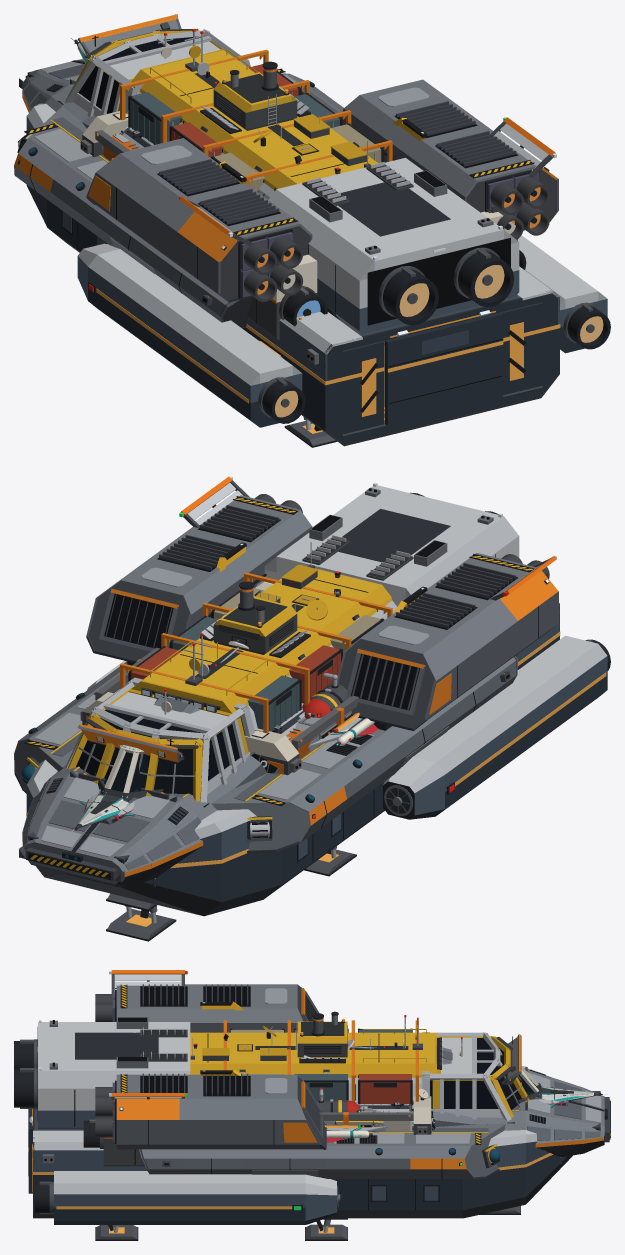
The model's file is Ships.gltf.
3 renders of one model, top to bottom at view 1: azimuth 30°, elevation 25°; view 2: azimuth 150°, elevation 25°; view 3: azimuth 270°, elevation 25°, orthographic. The views are drawn at different scales.
Parts seen in each view (by area): view 1: Nacelle (×5), EngineBlock (×4), RearFace (×7), RampPlate, HouseRoof (×3), BlockTop (×6), BlockOuterChamfer (×3), BlockOuterWall (×3), HeatGrille, ContainerBody (×4), ExhaustPlate, BlockTopChamfer (×3) (+32 smaller); view 2: Nacelle (×4), EngineBlock (×2), HouseRoof (×3), HullLower (×4), BlockTop (×6), IntakeWell (×2), BlockOuterChamfer (×3), BlockFront (×5), BlockOuterWall (×3), HeatGrille, ContainerBody (×3), BlockTopChamfer (×3) (+20 smaller); view 3: Nacelle (×5), EngineBlock (×4), HullLower (×4), HouseRoof (×3), BlockOuterWall (×3), BlockTop (×6), BlockOuterChamfer (×3), SponsonOuterWall (×5), SponsonTopChamfer (×5), FinBase (×4), BlockTopChamfer (×3), HouseEdge (×3) (+29 smaller).
Boxes of the visible parts, box(x1,y1,x2,y2) form: Nacelle (×5): box(88, 235, 598, 419); EngineBlock (×4): box(268, 157, 519, 330); RearFace (×7): box(324, 290, 552, 445); RampPlate: box(385, 312, 503, 425); HouseRoof (×3): box(142, 49, 377, 183); BlockTop (×6): box(120, 79, 535, 241); BlockOuterChamfer (×3): box(101, 153, 237, 261); BlockOuterWall (×3): box(95, 172, 220, 293); HeatGrille: box(338, 182, 450, 236); ContainerBody (×4): box(130, 92, 381, 191); ExhaustPlate: box(367, 238, 510, 325); BlockTopChamfer (×3): box(349, 95, 476, 196); Nacelle (×4): box(413, 635, 607, 808); EngineBlock (×2): box(276, 485, 518, 602); HouseRoof (×3): box(141, 565, 381, 702); HullLower (×4): box(144, 782, 384, 901); BlockTop (×6): box(120, 495, 535, 654); IntakeWell (×2): box(104, 593, 420, 710); BlockOuterChamfer (×3): box(423, 570, 558, 676); BlockFront (×5): box(88, 581, 433, 727); BlockOuterWall (×3): box(436, 591, 558, 712); HeatGrille: box(338, 509, 450, 562); ContainerBody (×3): box(247, 615, 380, 731); BlockTopChamfer (×3): box(183, 510, 311, 611); Nacelle (×5): box(54, 1171, 305, 1224); EngineBlock (×4): box(38, 1022, 190, 1127); HullLower (×4): box(331, 1156, 567, 1210); HouseRoof (×3): box(190, 1032, 436, 1063); BlockOuterWall (×3): box(116, 1120, 306, 1144); BlockTop (×6): box(116, 984, 297, 1098); BlockOuterChamfer (×3): box(116, 1098, 297, 1119); SponsonOuterWall (×5): box(146, 1158, 464, 1169); SponsonTopChamfer (×5): box(141, 1146, 464, 1159); FinBase (×4): box(140, 986, 250, 1096); BlockTopChamfer (×3): box(116, 1008, 297, 1022); HouseEdge (×3): box(190, 1063, 436, 1074).
Size of the model in its own units: 61.54 by 41.15 by 114.
